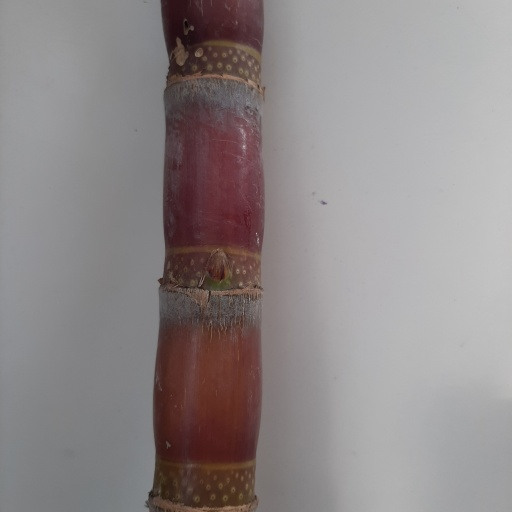Bud: (206, 248, 232, 280)
